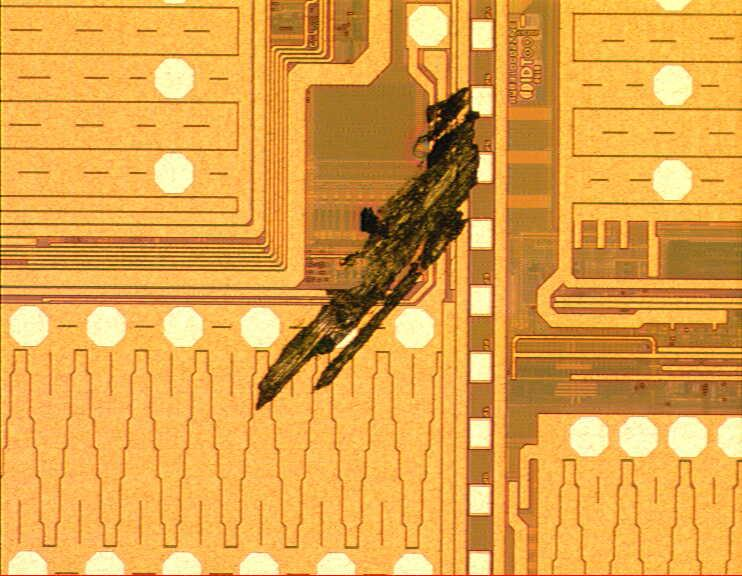SCRATCH: (247, 80, 486, 418)
